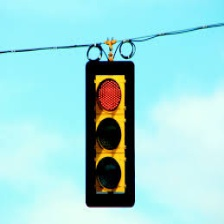semaforo: (85, 60, 134, 207)
